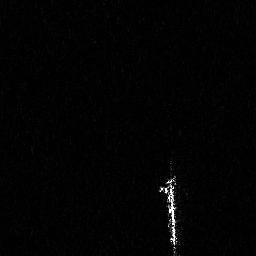ship: (157, 157, 181, 256)
